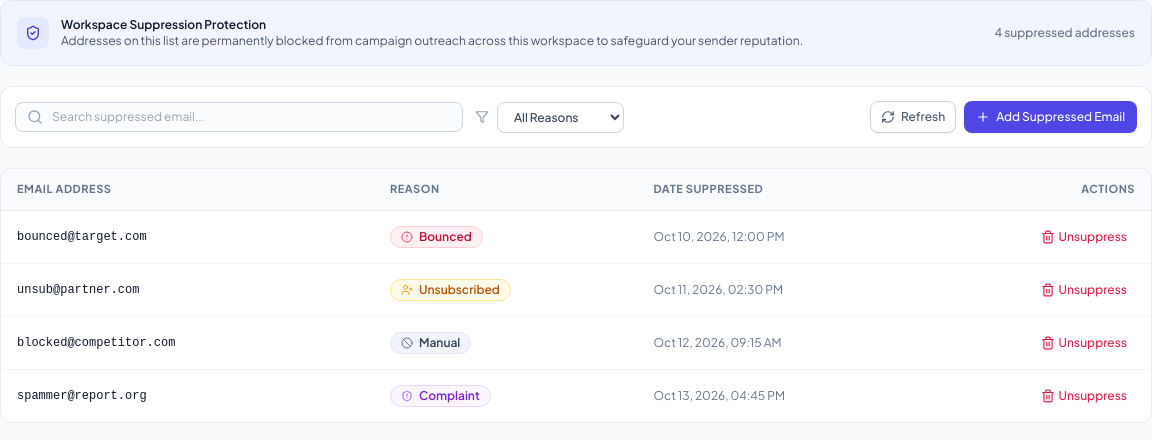
Test case: SuppressionListPanel Component › filters suppression records by reason dropdown
Check: the text "bounced@target.com" is shown, box [17,228,147,244]
Select "Bounced" in the dropdown named "filter by suppression reason" at (560, 117), box [497,102,624,132]
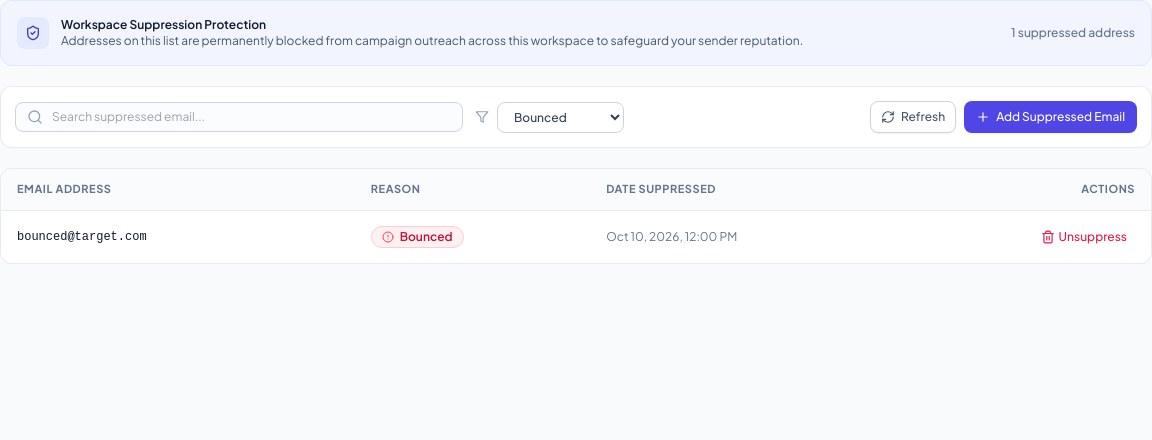
Check: the text "bounced@target.com" is shown, box [17,228,147,244]
Check: the text "unsub@partner.com" is gone
Check: the text "blocked@competitor.com" is gone
